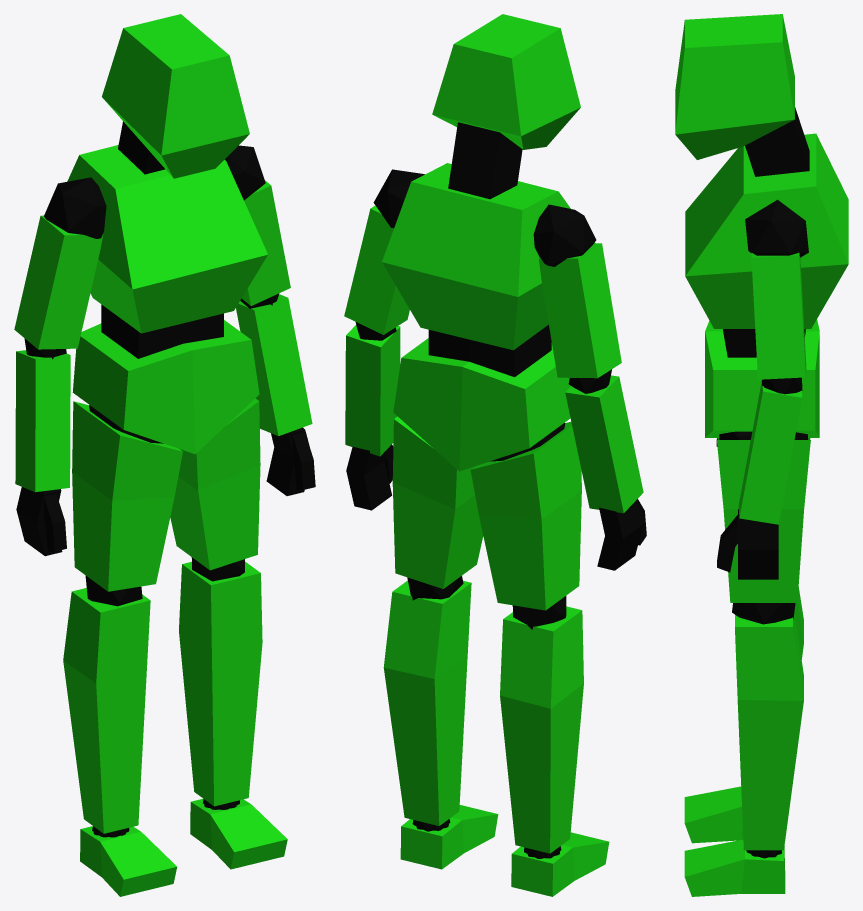
Rendered from RagdollModel.fbx.
3 renders of one model, left to right at view 1: azimuth 30°, elevation 25°; view 2: azimuth 150°, elevation 25°; view 3: azimuth 270°, elevation 25°, orthographic.
Parts seen in each view (by area): view 1: Cube.002, Cube.017, Cube.006, Cube, Cube.004, Cube.016, Cube.008, Cube.012, Cube.013, Cube.009, Cube.007, Cube.018 (+11 smaller); view 2: Cube.002, Cube.017, Cube.006, Cube.016, Cube.004, Cube, Cube.008, Cube.012, Cube.013, Cube.009, Cube.005, Cube.001 (+9 smaller); view 3: Cube.002, Cube, Cube.006, Cube.008, Cube.004, Cube.005, Cube.009, Cube.007, Cube.018, Icosphere.005, Cube.001, Cube.010 (+5 smaller).
Part boxes in pixels (<box>): Cube.002: <box>67,145,267,333</box>; Cube.017: <box>63,588,150,833</box>; Cube.006: <box>179,561,262,806</box>; Cube: <box>102,14,249,178</box>; Cube.004: <box>72,320,259,454</box>; Cube.016: <box>72,401,182,591</box>; Cube.008: <box>170,398,260,570</box>; Cube.012: <box>14,215,103,349</box>; Cube.013: <box>15,350,70,492</box>; Cube.009: <box>236,294,312,436</box>; Cube.007: <box>190,798,287,869</box>; Cube.018: <box>80,826,176,896</box>; Cube.002: <box>382,163,595,350</box>; Cube.017: <box>500,606,583,853</box>; Cube.006: <box>383,580,471,825</box>; Cube.016: <box>470,421,581,610</box>; Cube.004: <box>393,338,570,471</box>; Cube: <box>432,14,580,149</box>; Cube.008: <box>392,416,483,588</box>; Cube.012: <box>538,243,621,378</box>; Cube.013: <box>565,375,643,513</box>; Cube.009: <box>345,325,400,456</box>; Cube.005: <box>344,205,409,334</box>; Cube.001: <box>448,122,522,199</box>; Cube.002: <box>685,133,848,328</box>; Cube: <box>675,14,794,159</box>; Cube.006: <box>735,613,803,850</box>; Cube.008: <box>717,440,810,602</box>; Cube.004: <box>705,319,819,437</box>; Cube.005: <box>751,252,806,379</box>; Cube.009: <box>738,381,802,524</box>; Cube.007: <box>684,839,785,896</box>; Cube.018: <box>684,786,743,843</box>; Icosphere.005: <box>745,199,808,257</box>; Cube.001: <box>745,107,809,176</box>; Cube.010: <box>738,509,778,579</box>.
Size of the model in its own units: 258 by 731 by 139.
